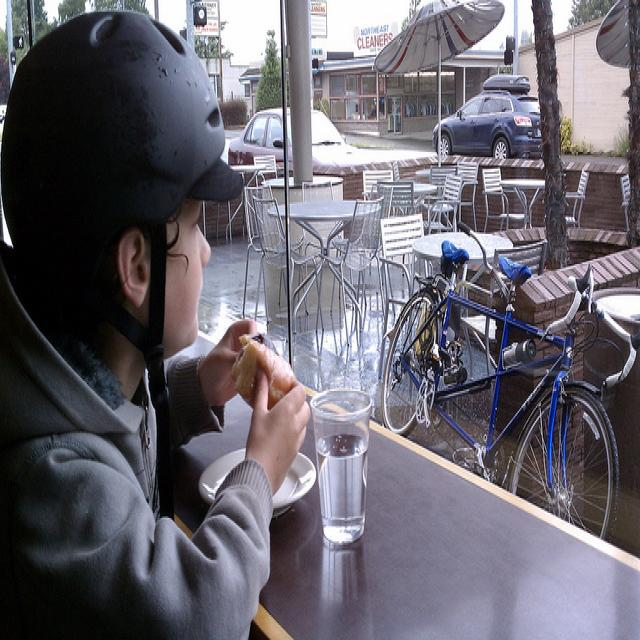Vehicle: (432, 76, 543, 160), (227, 110, 355, 165)
